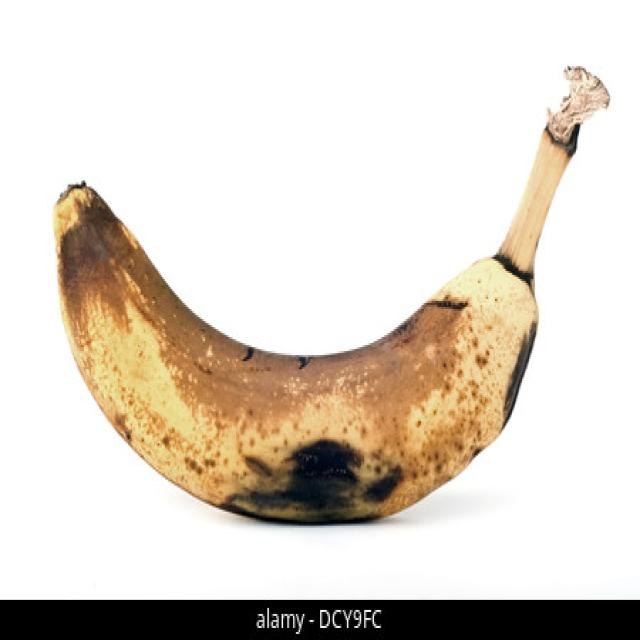overripe: (47, 124, 588, 534)
